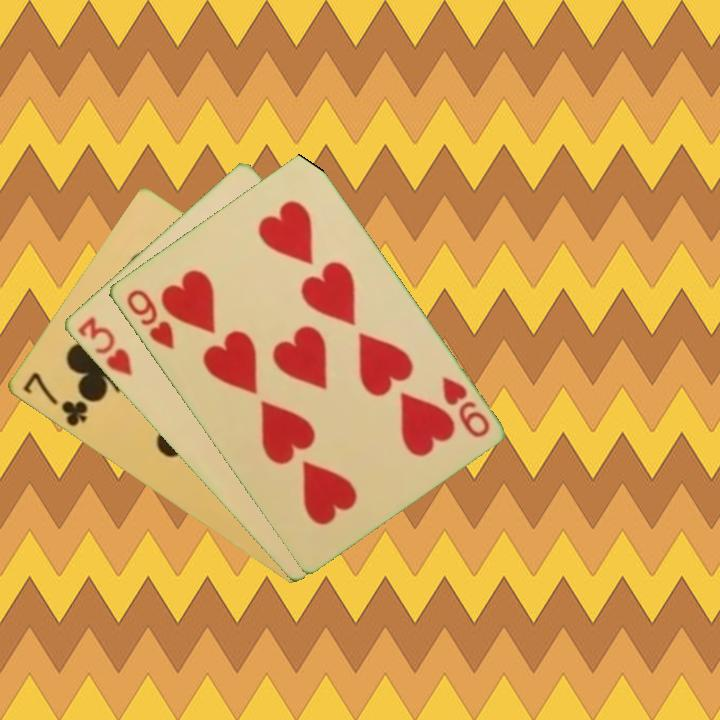3h: (73, 312, 135, 379)
7c: (18, 369, 91, 430)
9h: (437, 373, 492, 441), (122, 285, 177, 352)
